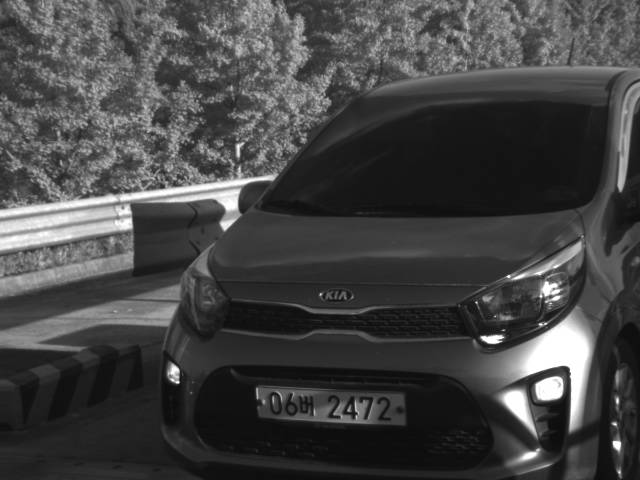car: (158, 65, 640, 480)
plate: (253, 382, 410, 427)
